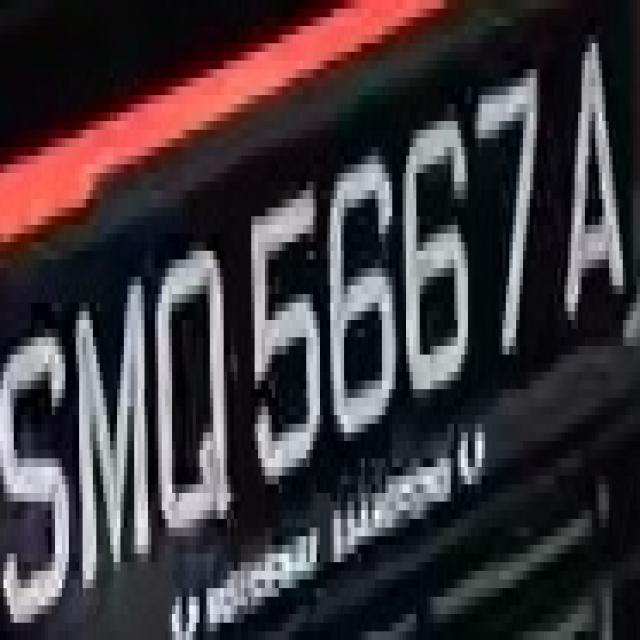5: (251, 182, 327, 493)
6: (392, 112, 475, 424), (327, 130, 399, 484)
7: (475, 69, 547, 381)
A: (561, 35, 633, 337)
M: (76, 260, 158, 614)
Q: (148, 233, 244, 545)
S: (7, 294, 72, 640)
